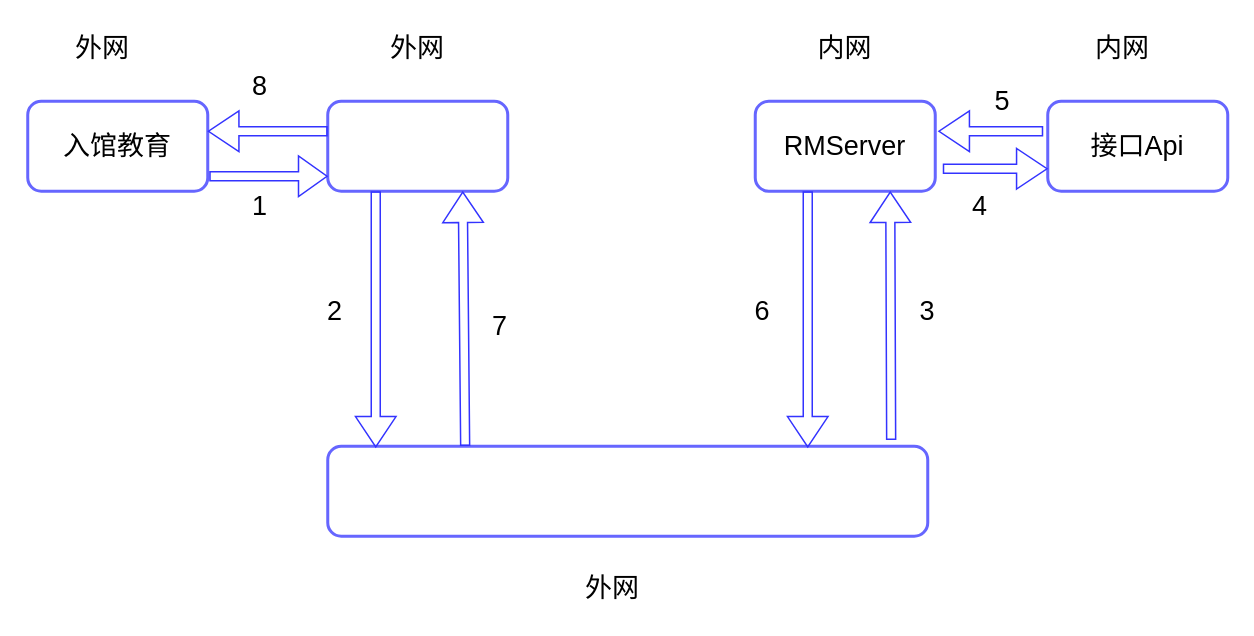
The diagram is 1254 pixels wide and 636 high, and some of its shapes have lost their labels. Each missing label, with the centre of its shape:
RabbitMQ: pixel 627 490
WebApi: pixel 417 145
